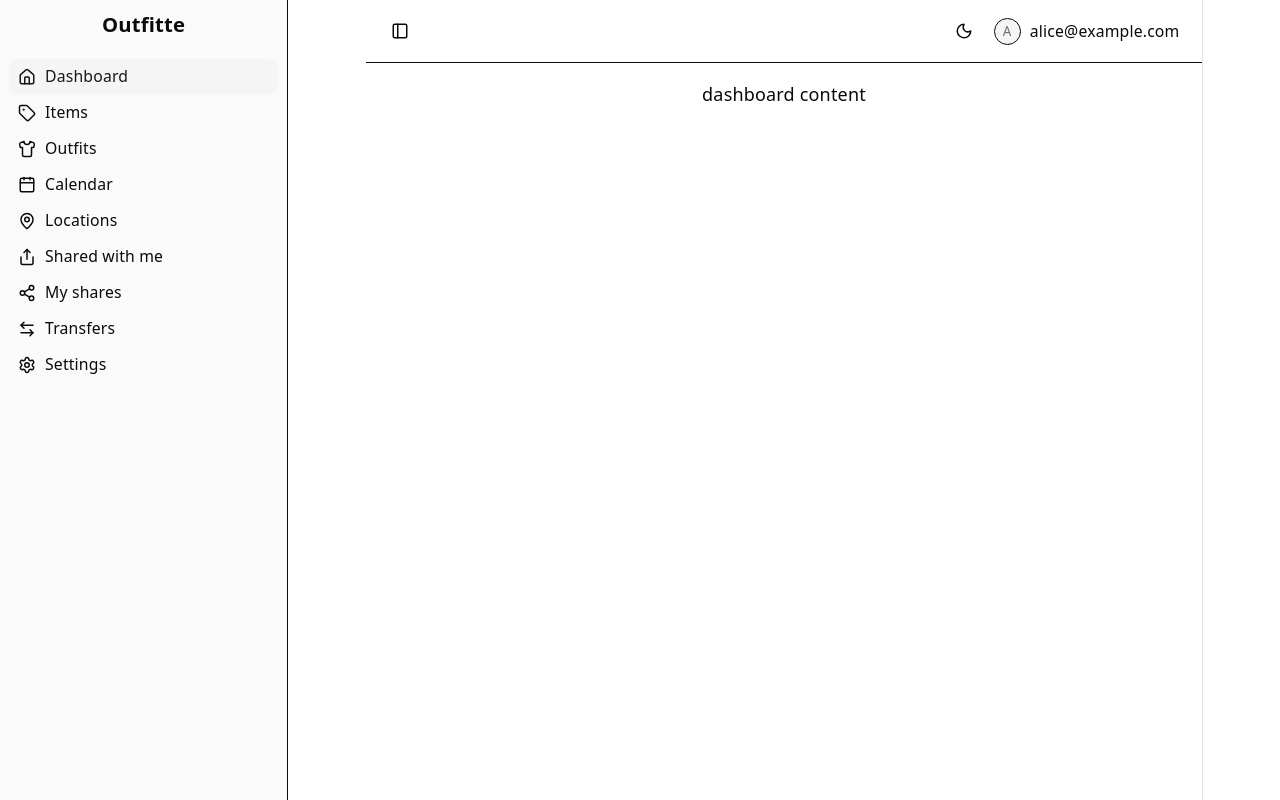
Test case: AppLayout › AppLayout should navigate to /locations when Locations link is clicked
This screenshot has width=1280, height=800.
Click the link "Locations": (68, 220) [18, 209, 117, 231]
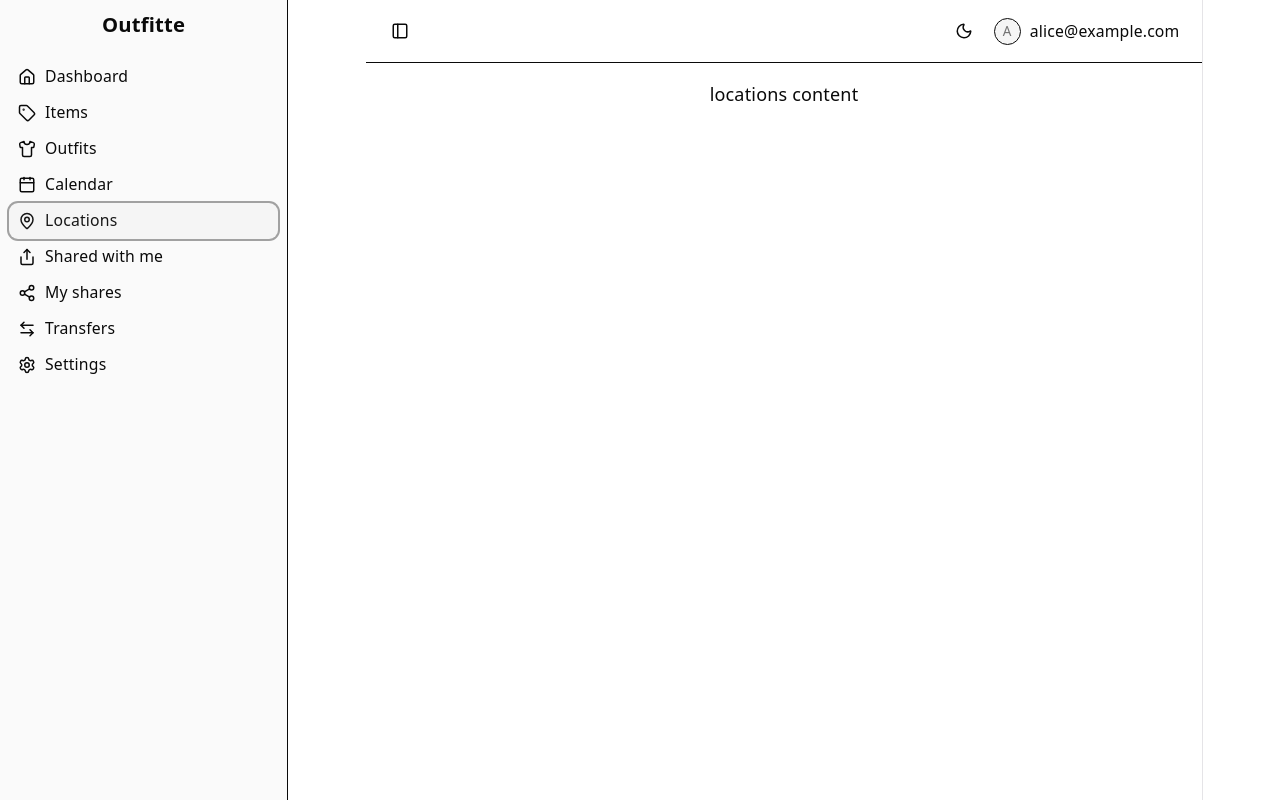
Expected: the text "locations content" is shown, [710, 82, 858, 106]
